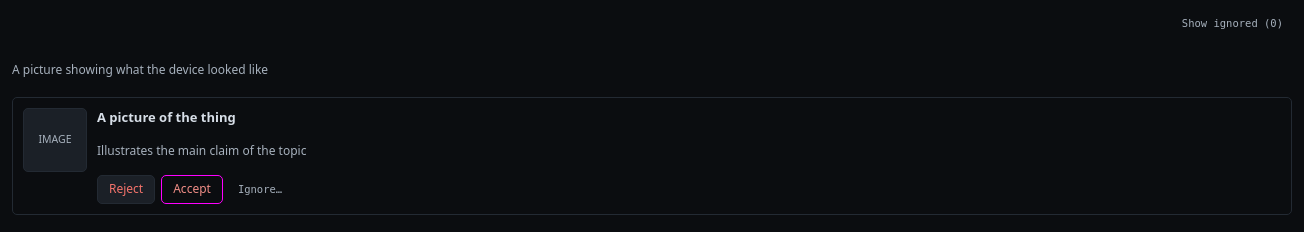
Test: rejects with the primary button, and opens ignore only behind a second choice of grain
Step 1. Click the button "Reject" → (126, 190), box [97,175,155,204]
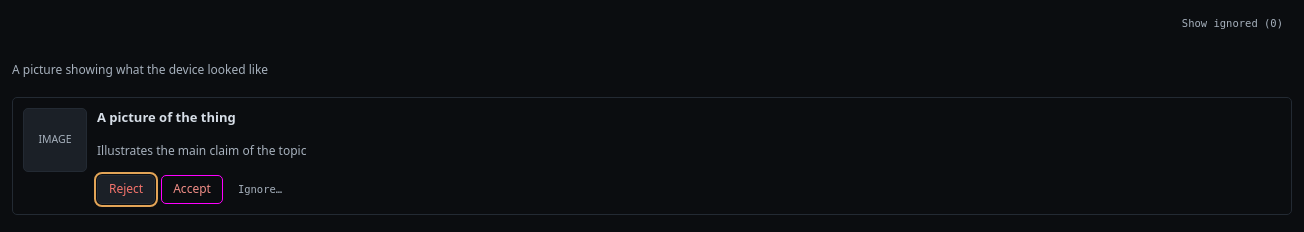
Expected: the button "Ignore this asset" is not shown
Step 2. Click the button "Ignore…" → (260, 190), box [229,178,291,201]
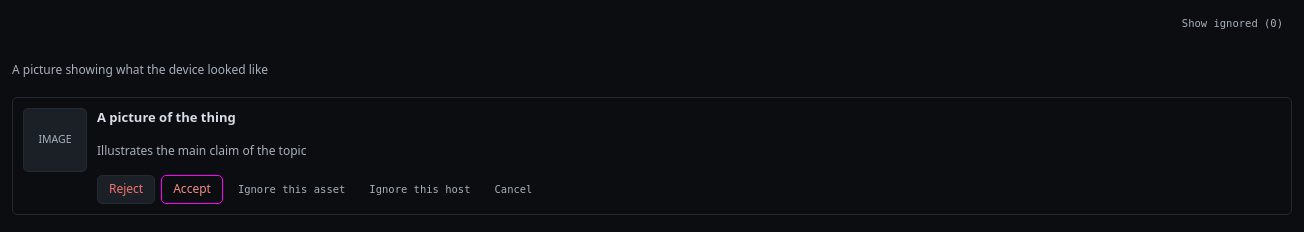
Now the button "Ignore this asset" is shown, box [229,178,354,201]
Now the button "Ignore this host" is shown, box [360,178,480,201]
